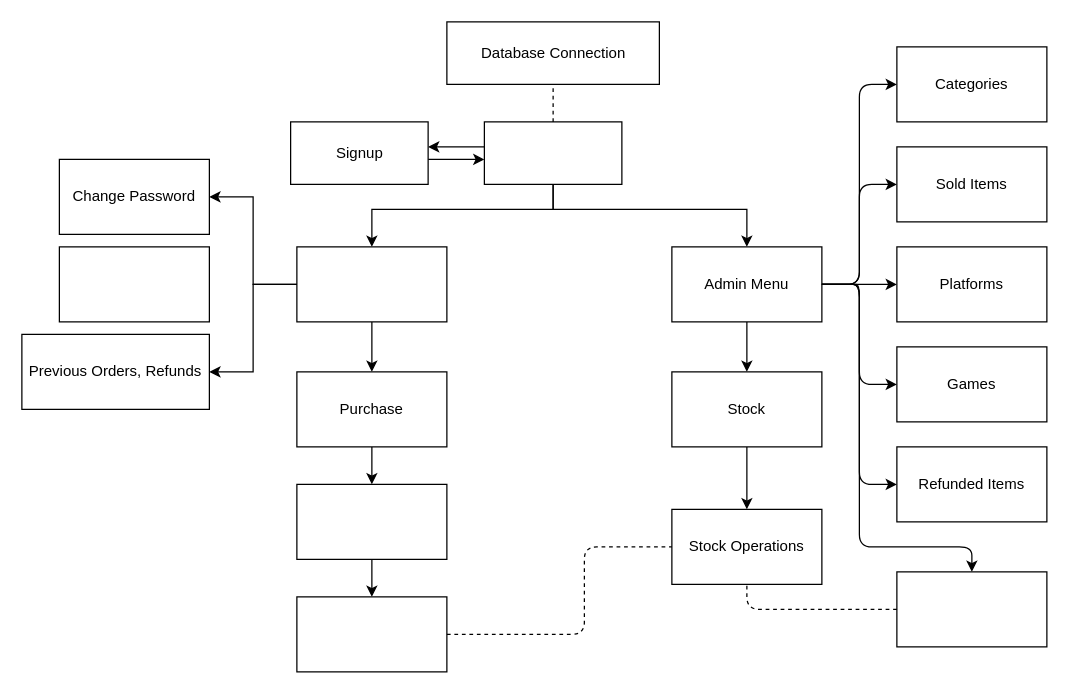
This 1069x694 diagram has some shape labels left out. Each missing label, with the centre of its shape:
Customer Menu: pixel 371 284
Login: pixel 552 152
Payment: pixel 371 634
Pending Refunds: pixel 971 609
Shopping Cart: pixel 133 284
Store: pixel 371 521
